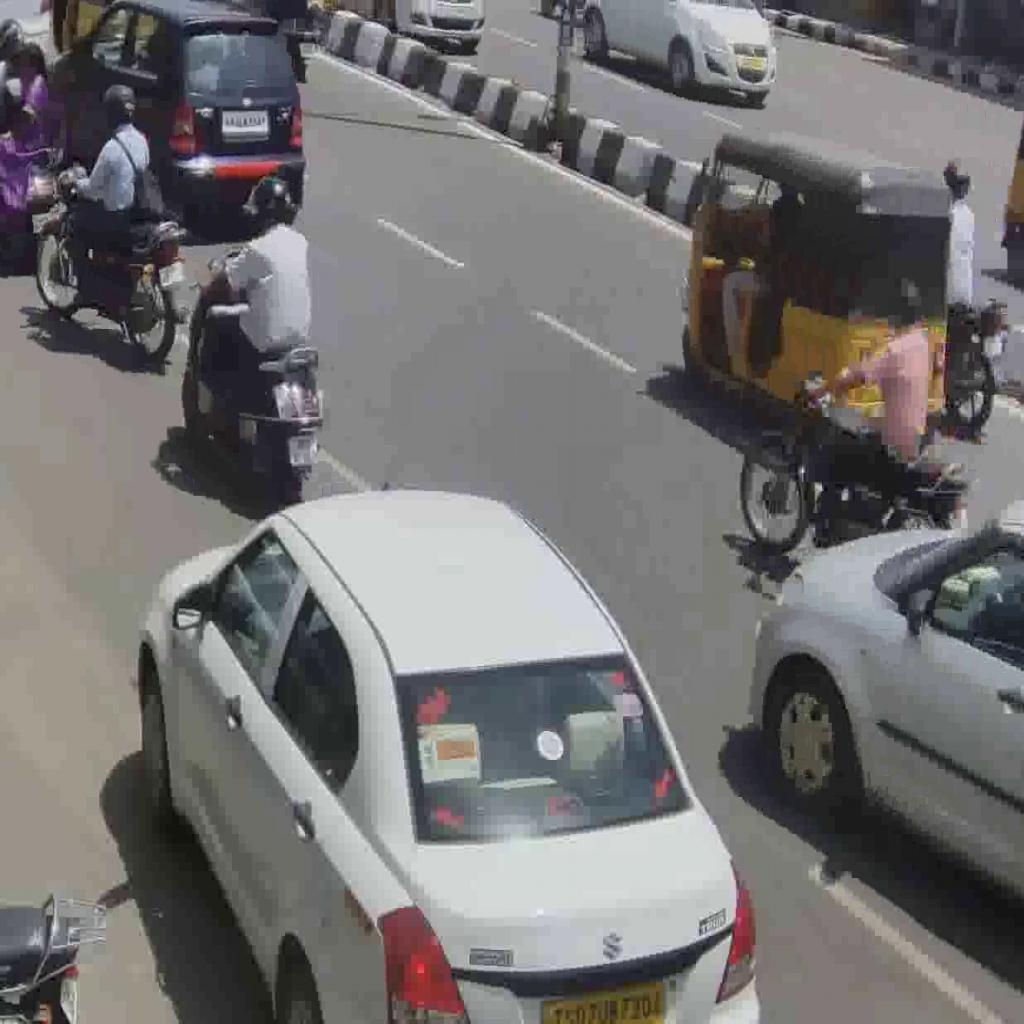helmet: (738, 364, 978, 556), (180, 243, 330, 509), (33, 166, 190, 366)
